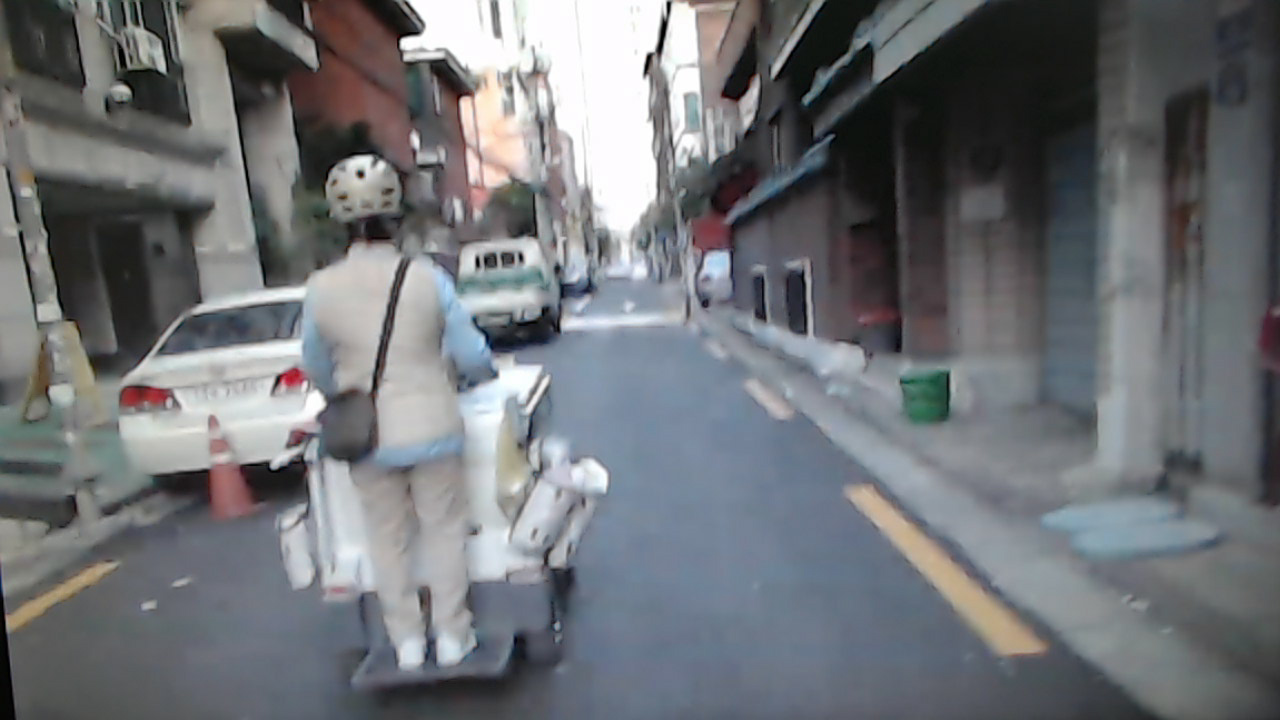Yakurut: (287, 147, 536, 701)
